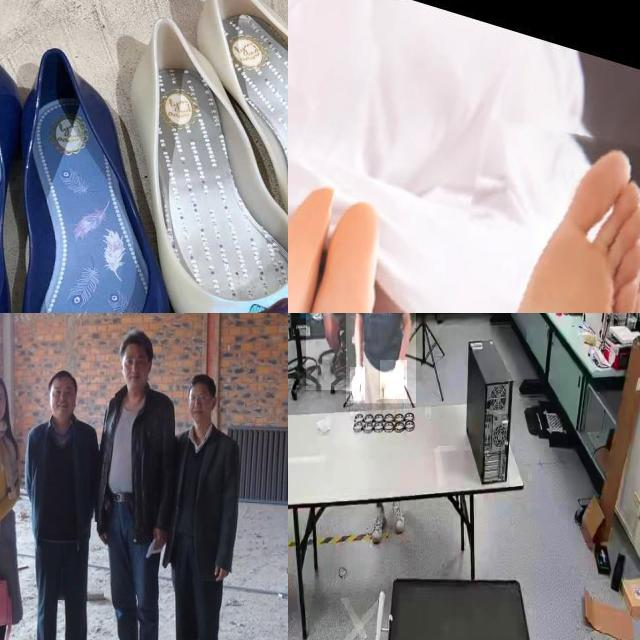Barefoots: (367, 105, 640, 313), (288, 184, 432, 313)
No_Ear-Protection: (119, 322, 156, 396), (44, 366, 84, 425), (187, 374, 223, 434), (0, 372, 10, 441)
Sandals: (109, 0, 288, 313), (0, 8, 172, 313)
hand_glove: (380, 360, 408, 400), (350, 367, 366, 401)
person: (345, 313, 416, 404), (306, 313, 359, 391)
shoes: (390, 502, 409, 542), (370, 509, 388, 545)
